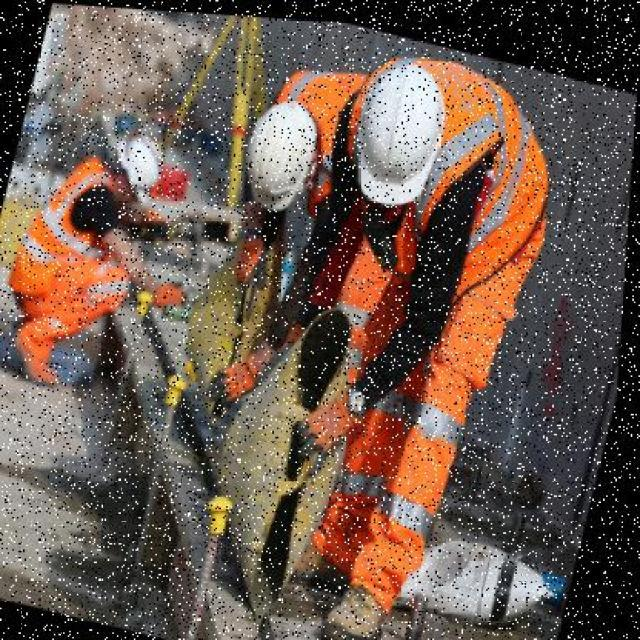helmet: (335, 37, 467, 223), (223, 79, 343, 237), (106, 121, 178, 195)
vest: (368, 51, 564, 362), (17, 143, 133, 307), (262, 37, 374, 179)
